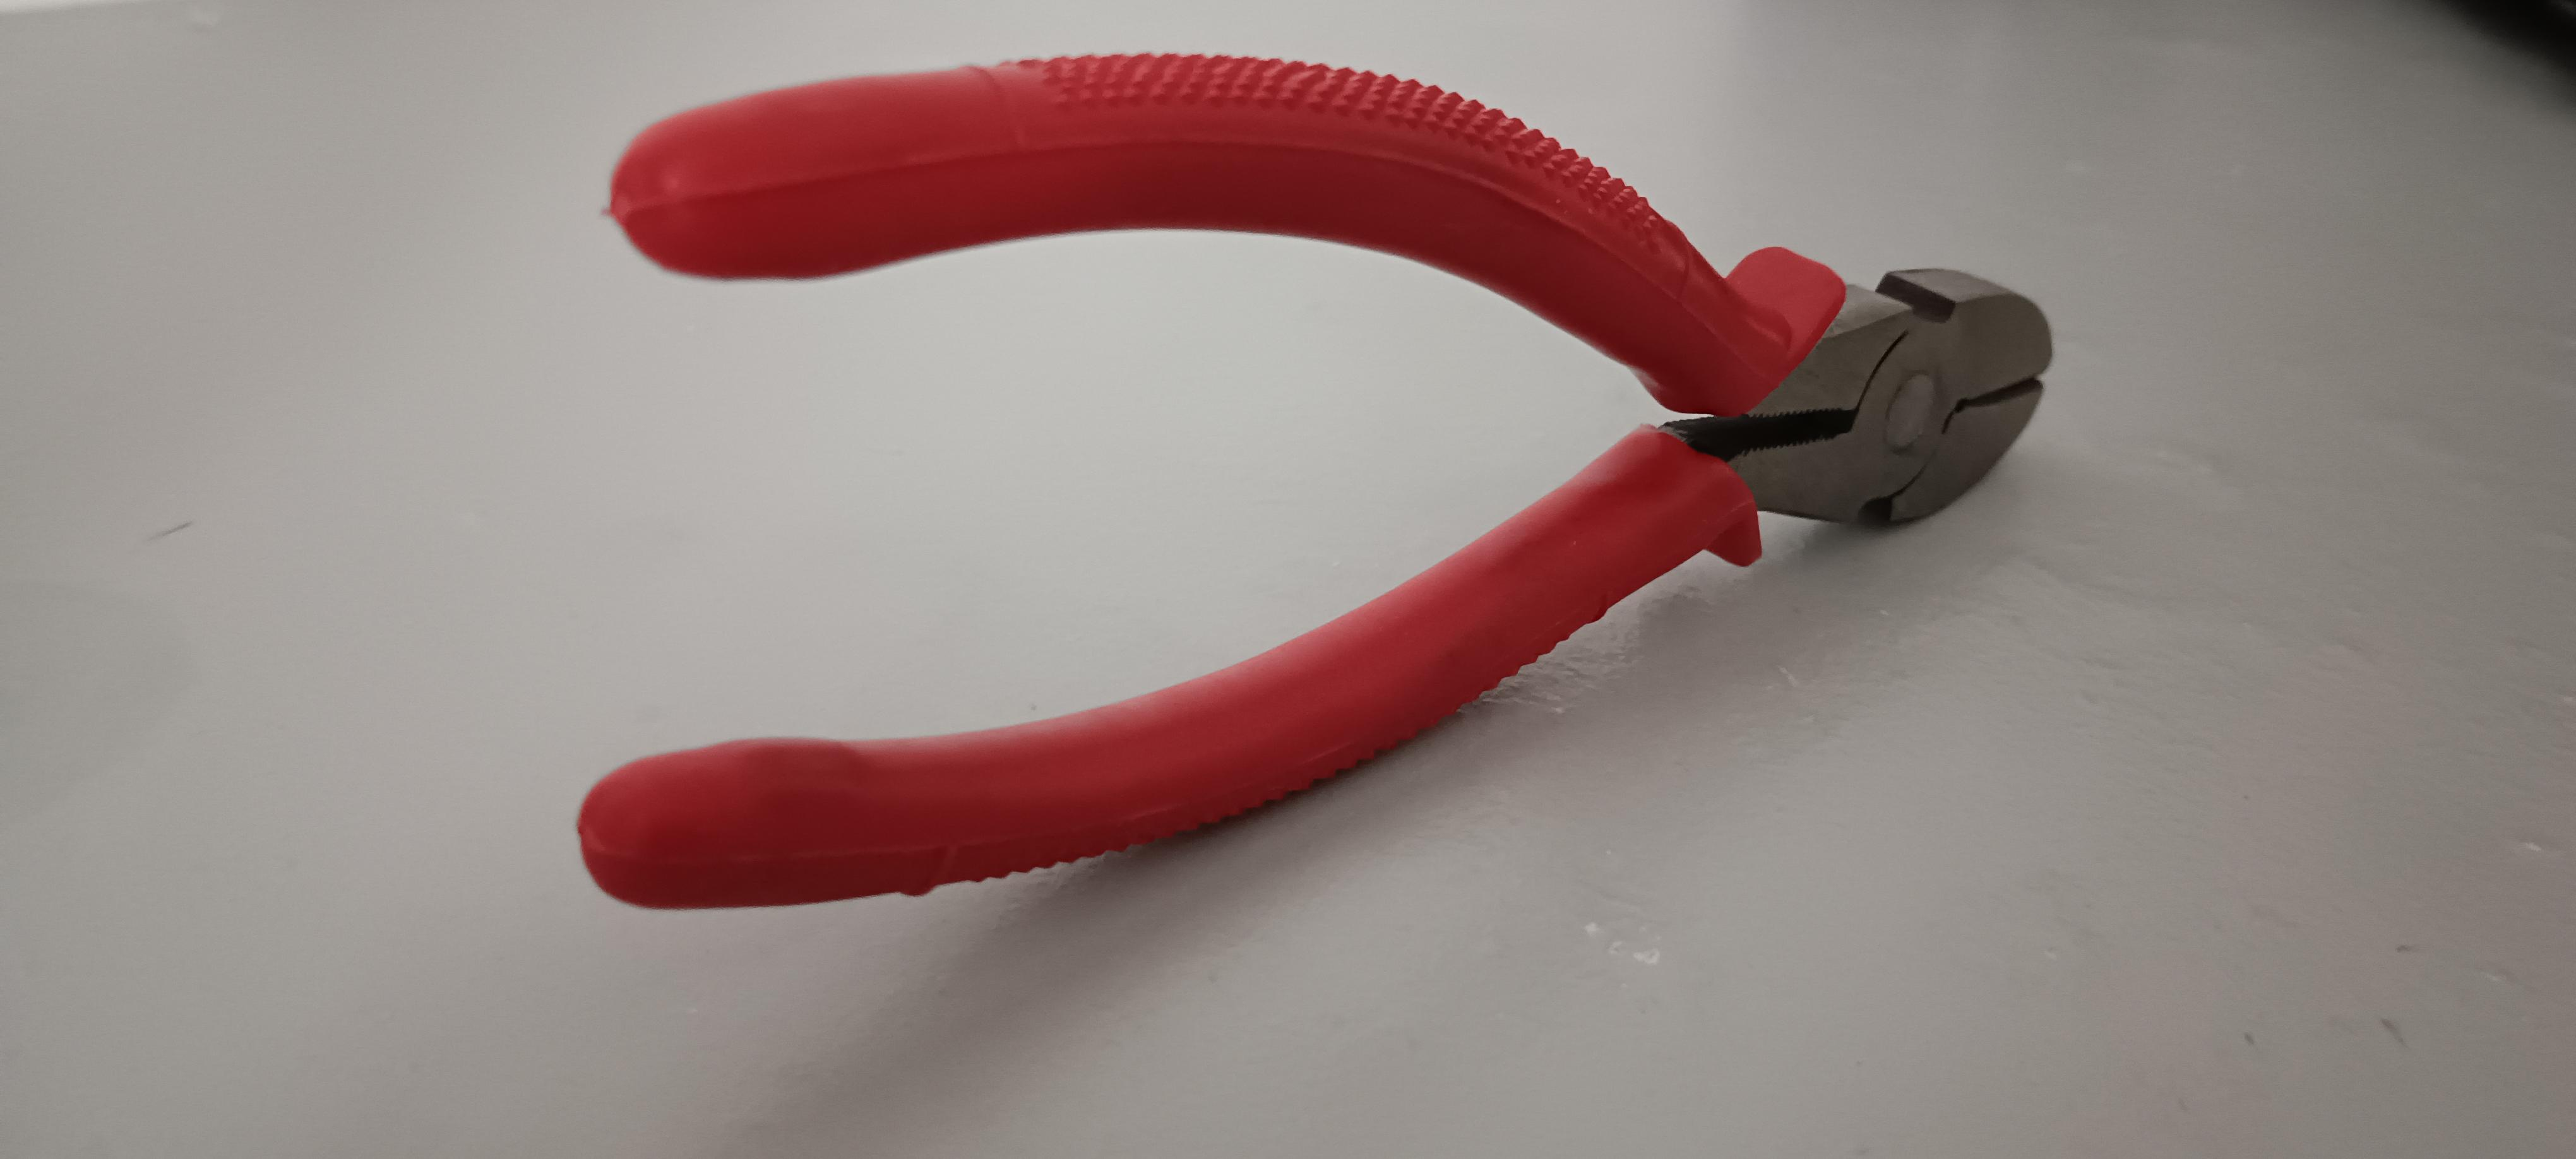Pliers: (521, 25, 2085, 1010)
